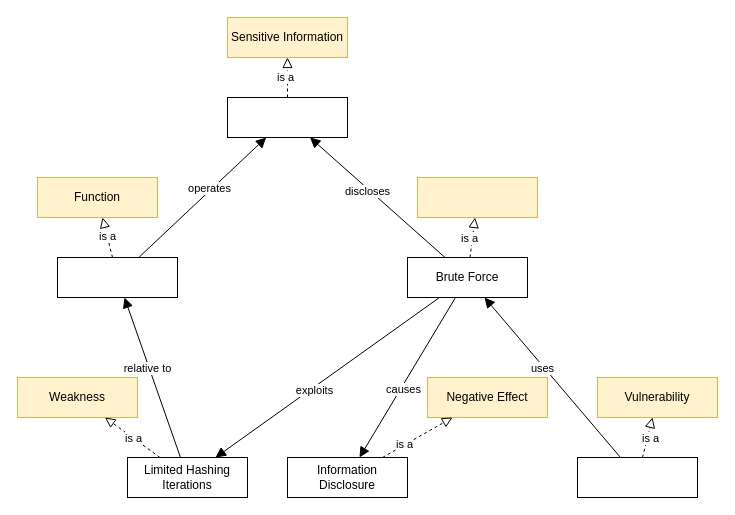
The diagram is 735 pixels wide and 515 high, and some of its shapes have lost their labels. The shapes that lost their labels are listed below. From the top down, each one's box as (x1, y1, x2, y2) in pixels, then its label:
(226, 96, 348, 138): Encryption Key
(416, 176, 538, 218): Attack
(56, 256, 178, 298): Hashing
(576, 456, 698, 498): iSEC-OCAP-11
